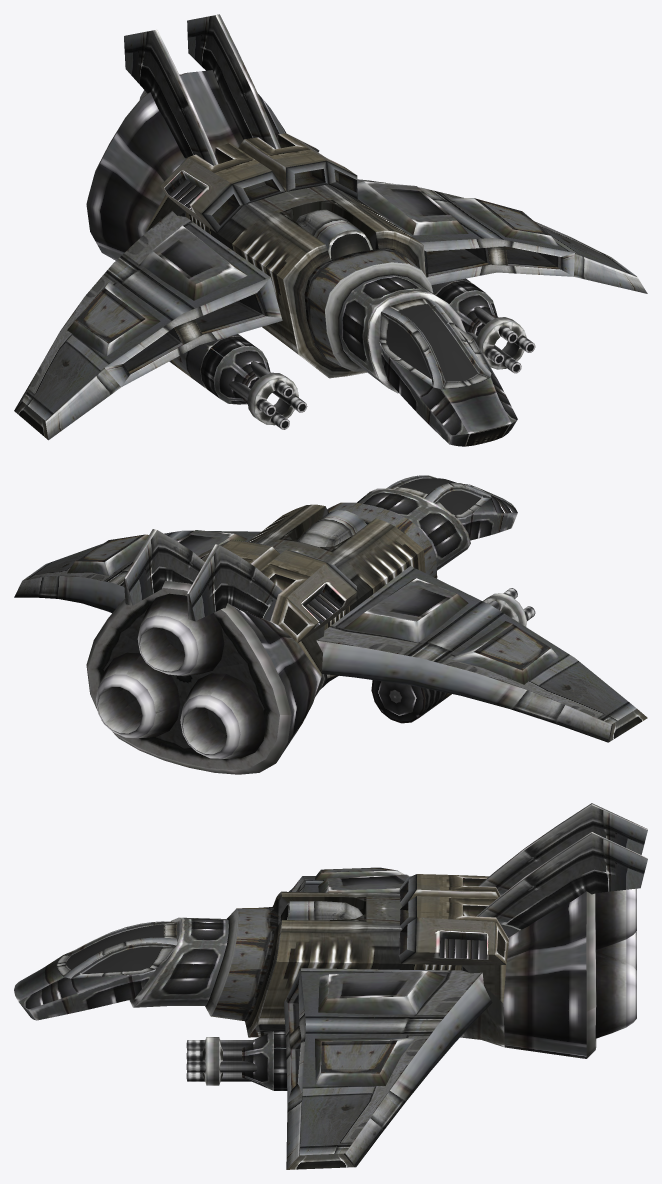
3 renders of one model, top to bottom at view 1: azimuth 30°, elevation 25°; view 2: azimuth 150°, elevation 25°; view 3: azimuth 270°, elevation 25°, orthographic. The views are drawn at different scales.
Visible parts, largest first — view 1: gs-04; view 2: gs-04; view 3: gs-04.
Boxes of the visible parts, x1,y1,x2,y2 form: gs-04: (14, 14, 647, 446); gs-04: (14, 475, 647, 774); gs-04: (14, 803, 647, 1169).
Size of the model in its own units: 7.73 by 7.5 by 2.87.
